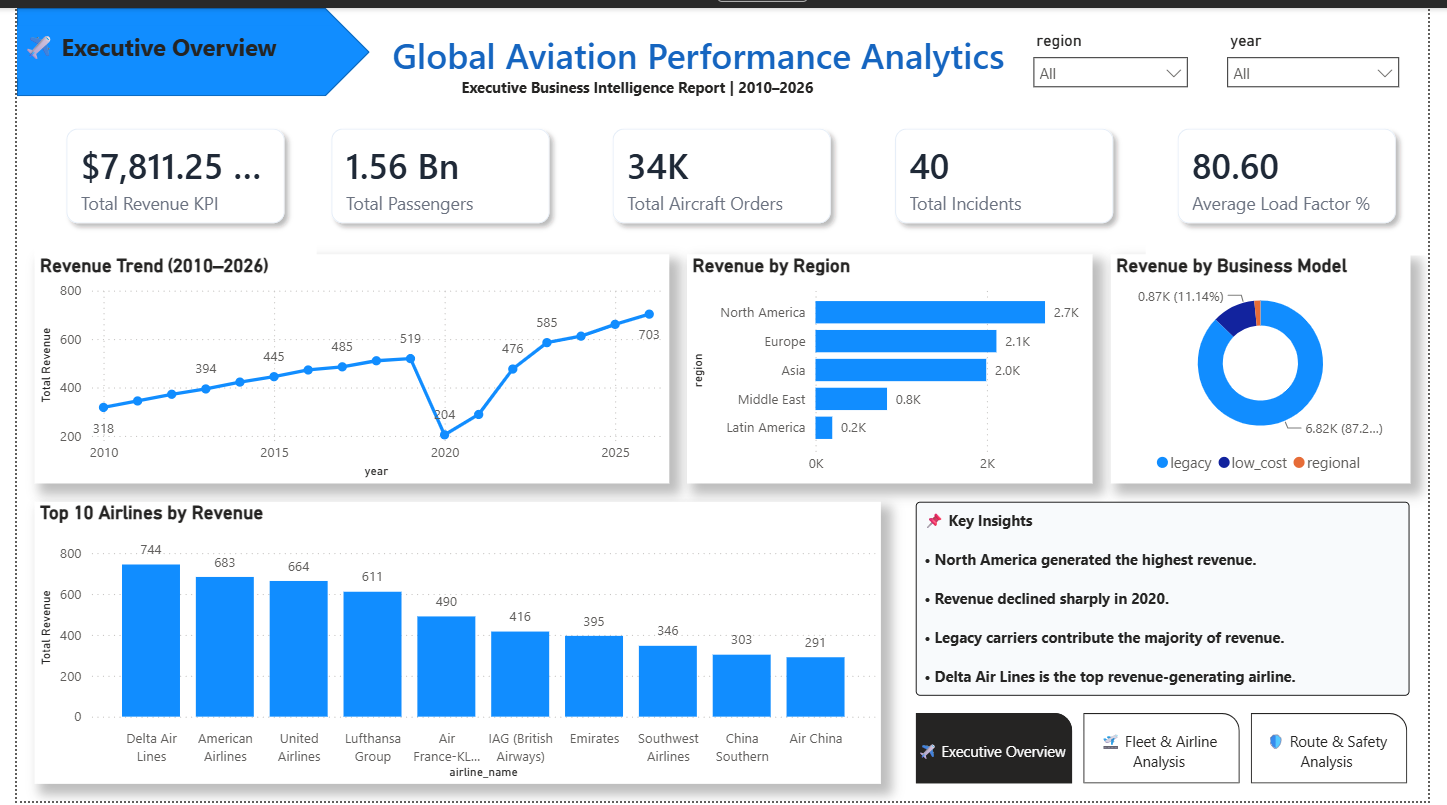

The dashboard page shown, as its layout file describes it:
{"tool":"powerbi","page":{"name":"✈️ Executive Overview","canvas":[1280,720],"ordinal":0},"visuals":[{"type":"textbox","box":[336,16,576,80],"z":0},{"type":"slicer","fields":{"Values":["aviation_project airline_financials.region"]},"box":[912,16,160,80],"z":1000},{"type":"slicer","fields":{"Values":["aviation_project airline_financials.year"]},"box":[1088,16,176,80],"z":2000},{"type":"cardVisual","fields":{"Data":["aviation_project airline_financials.Total Incidents"]},"box":[768,80,256,144],"z":3000},{"type":"cardVisual","title":"Total Passengers (Million)","fields":{"Data":["aviation_project airline_financials.Total Passengers"]},"box":[256,80,256,144],"z":4000},{"type":"cardVisual","fields":{"Data":["aviation_project airline_financials.Total Aircraft Orders"]},"box":[512,80,256,144],"z":5000},{"type":"lineChart","title":"Revenue Trend (2010–2026)","fields":{"Category":["aviation_project airline_financials.year"],"Y":["aviation_project airline_financials.Total Revenue"]},"box":[16,224,576,208],"z":6000},{"type":"clusteredBarChart","title":"Revenue by Region","fields":{"Y":["aviation_project airline_financials.Total Revenue"],"Category":["aviation_project airline_financials.region"]},"box":[608,224,368,208],"z":7000},{"type":"donutChart","title":"Revenue by Business Model","fields":{"Y":["aviation_project airline_financials.Total Revenue"],"Category":["aviation_project airline_financials.business_model"]},"box":[992,224,272,208],"z":8000},{"type":"clusteredColumnChart","title":"Top 10 Airlines by Revenue","fields":{"Y":["aviation_project airline_financials.Total Revenue"],"Category":["aviation_project airline_financials.airline_name"]},"box":[16,448,768,256],"z":9000},{"type":"pageNavigator","box":[816,640,448,64],"z":10000},{"type":"textbox","box":[816,448,448,176],"z":11000},{"type":"shape","box":[0,0,320,80],"z":12000},{"type":"textbox","box":[0,16,288,48],"z":13000},{"type":"cardVisual","fields":{"Data":["aviation_project airline_financials.Total Revenue Bn"]},"box":[16,80,256,144],"z":14000},{"type":"cardVisual","fields":{"Data":["aviation_project airline_financials.Average Load Factor %"]},"box":[1024,80,256,144],"z":15000}]}

Visuals, with their boxes in screenshot pixels (x1, y1, x2, y2), scaled from the page's 1280x720 canvas onto the 1447x805 screenshot:
textbox: [380,18,1031,107]
slicer - aviation_project airline_financials.region: [1031,18,1212,107]
slicer - aviation_project airline_financials.year: [1230,18,1429,107]
cardVisual - aviation_project airline_financials.Total Incidents: [868,89,1158,250]
"Total Passengers (Million)" cardVisual: [289,89,579,250]
cardVisual - aviation_project airline_financials.Total Aircraft Orders: [579,89,868,250]
"Revenue Trend (2010–2026)" lineChart: [18,250,669,483]
"Revenue by Region" clusteredBarChart: [687,250,1103,483]
"Revenue by Business Model" donutChart: [1121,250,1429,483]
"Top 10 Airlines by Revenue" clusteredColumnChart: [18,501,886,787]
pageNavigator: [922,716,1429,787]
textbox: [922,501,1429,698]
shape: [0,0,362,89]
textbox: [0,18,326,72]
cardVisual - aviation_project airline_financials.Total Revenue Bn: [18,89,307,250]
cardVisual - aviation_project airline_financials.Average Load Factor %: [1158,89,1446,250]
